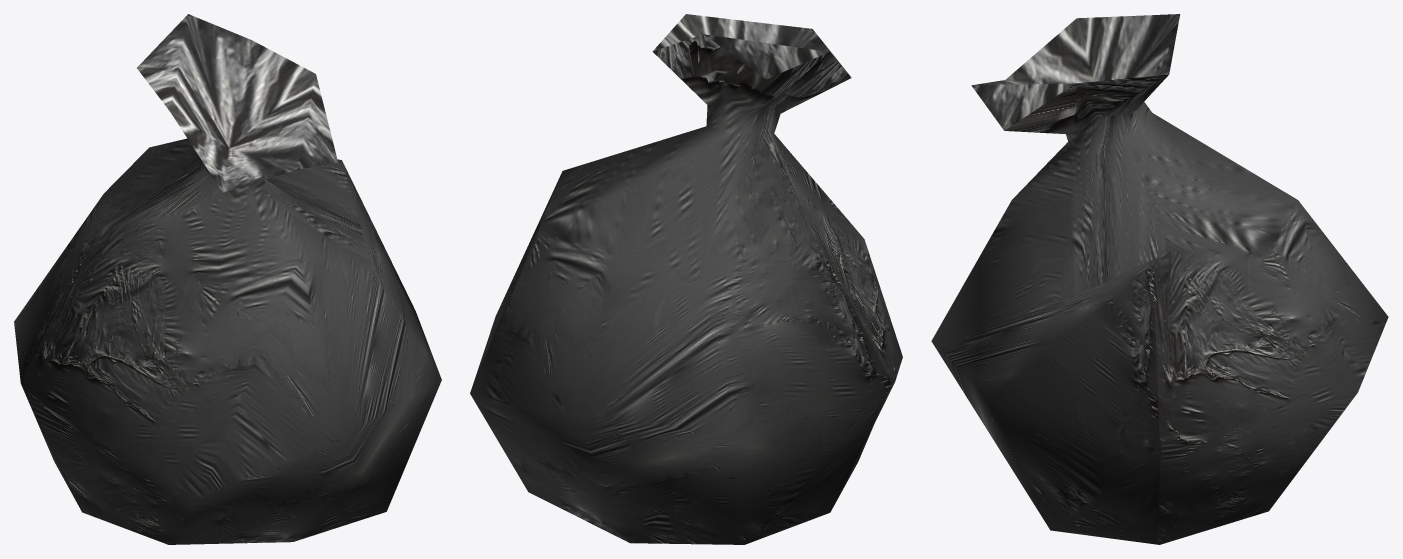
File: garbagebag_4.fbx
3 views of the same model, side by side, from view 1: azimuth 30°, elevation 25°; view 2: azimuth 150°, elevation 25°; view 3: azimuth 270°, elevation 25° (orthographic). The views are drawn at different scales.
Parts seen in each view (by area): view 1: garabage_bag; view 2: garabage_bag; view 3: garabage_bag.
Boxes of the visible parts, x1,y1,x2,y2 form: garabage_bag: (14, 14, 441, 544); garabage_bag: (470, 14, 902, 544); garabage_bag: (931, 14, 1388, 544).
Bounding box in the file's own units: 0.502 × 0.5814 × 0.524.
